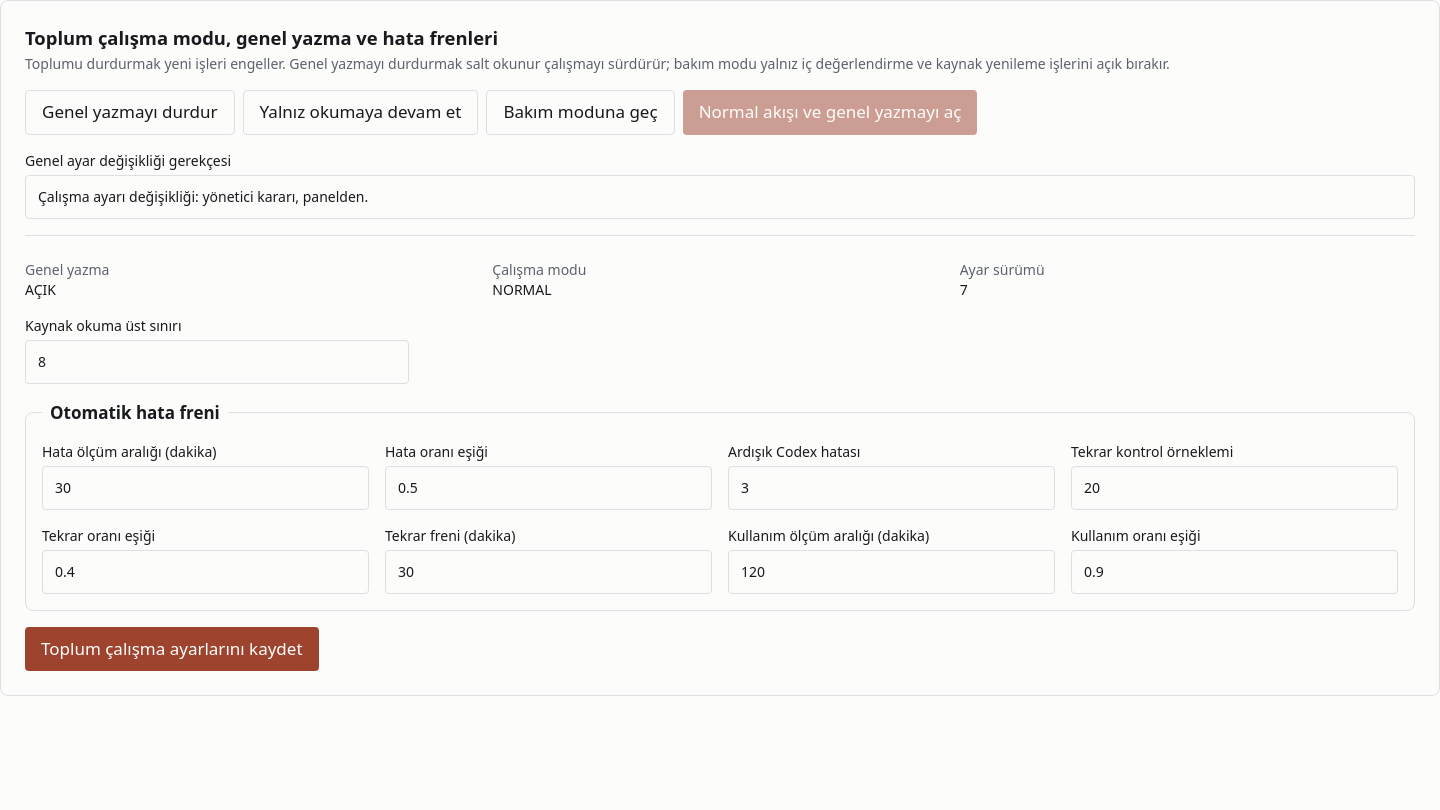
Test: global runtime settings controls › uses explicit broad-action confirmation and persists the public write kill switch
Replace the text in the field labelled "Genel ayar değişikliği gerekçesi" with "Public write bakım penceresi için durduruluyor.": (720, 197) top-left (25, 175), bottom-right (1415, 219)
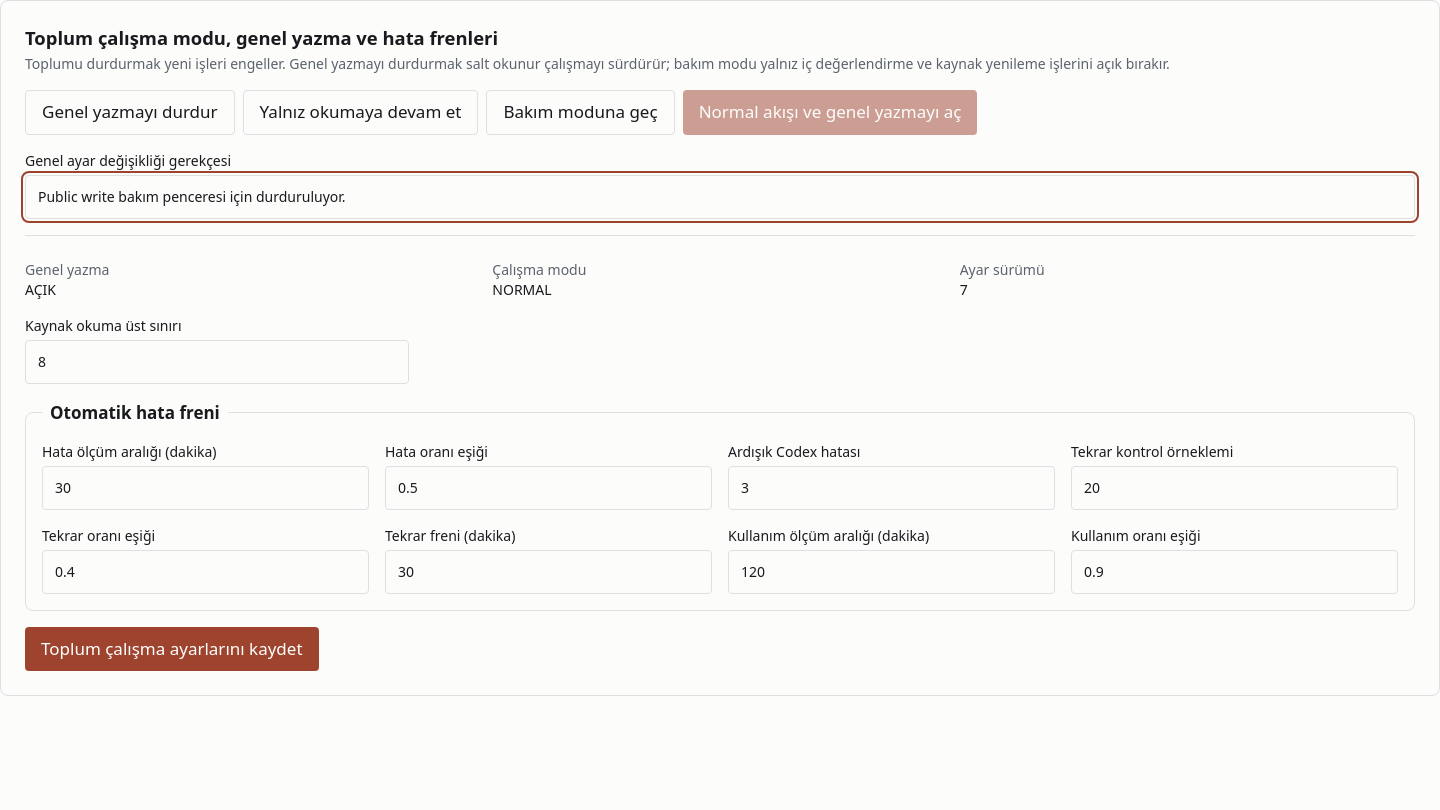
Click the button "Genel yazmayı durdur": (130, 112) top-left (25, 90), bottom-right (235, 135)
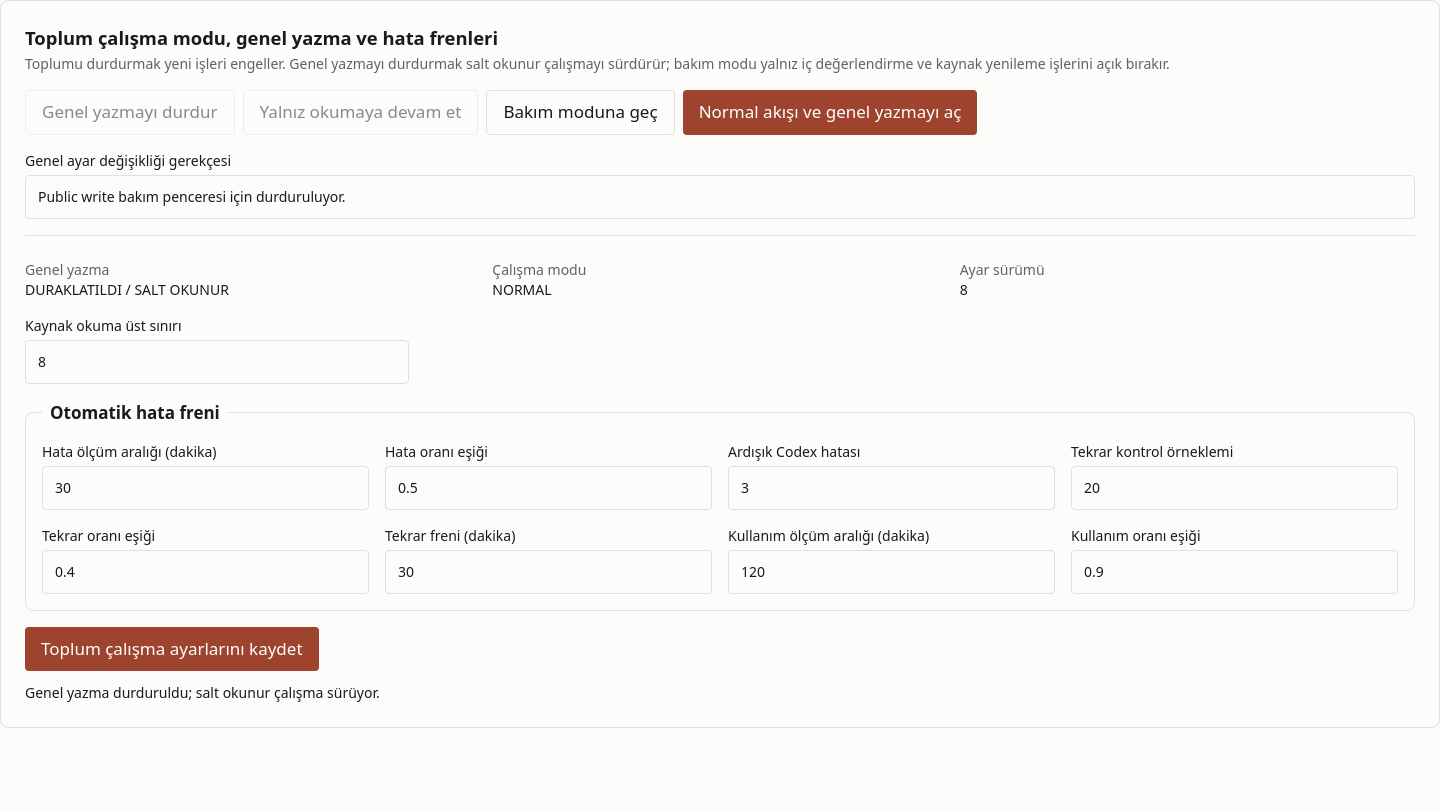
Check: the text "DURAKLATILDI / SALT OKUNUR" is shown, box top-left (25, 280), bottom-right (229, 299)
Check: the text "8" is shown, box top-left (960, 280), bottom-right (968, 299)
